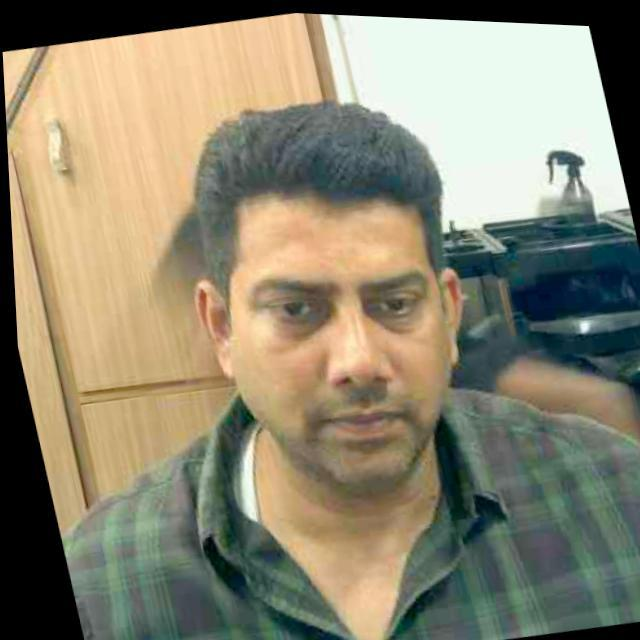Puffy Eyes - v3 Dark Circle: (366, 297, 426, 333), (260, 308, 329, 335)
